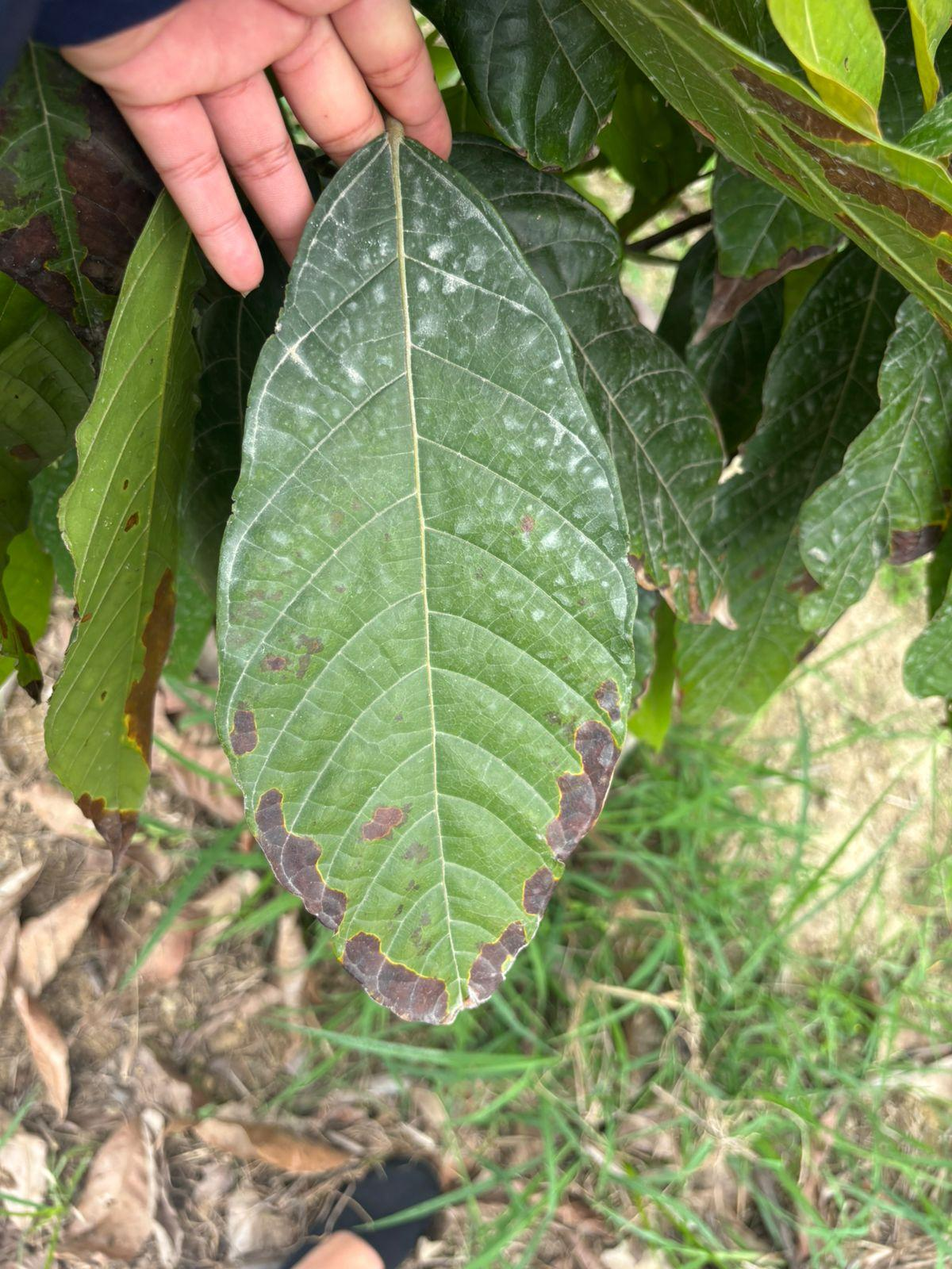Potasio: (217, 125, 636, 1023), (45, 194, 200, 856)
